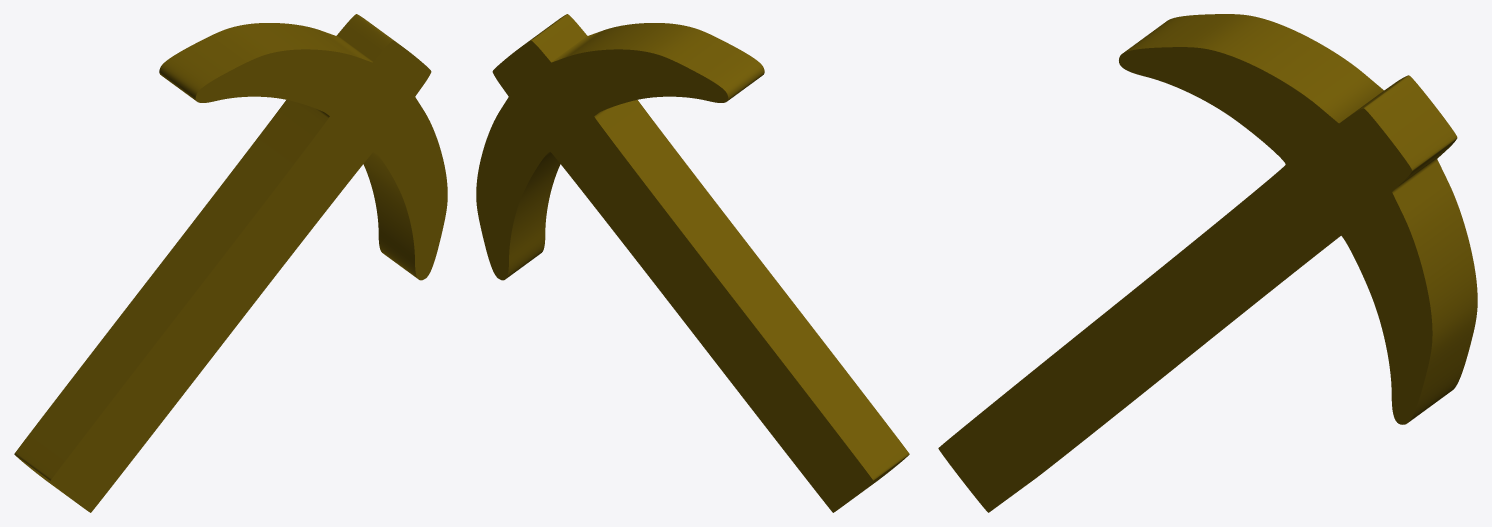
File: PickAxe.obj
The picture shows the model from 3 angles, left to right: view 1: azimuth 30°, elevation 25°; view 2: azimuth 150°, elevation 25°; view 3: azimuth 330°, elevation 25°; orthographic projection. The views are drawn at different scales.
Parts seen in each view (by area): view 1: Curve_path58; view 2: Curve_path58; view 3: Curve_path58.
Part boxes in pixels (x1,y1,x2,y2): Curve_path58: (14, 14, 447, 512); Curve_path58: (476, 14, 909, 512); Curve_path58: (938, 14, 1477, 512).
Bounding box in the file's own units: 0.5052 × 0.5053 × 0.08.
